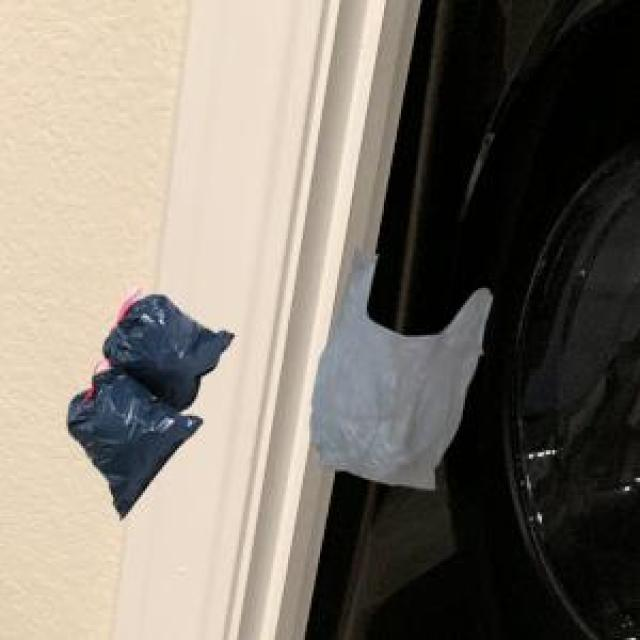miscellaneous trash: (64, 282, 230, 514)
